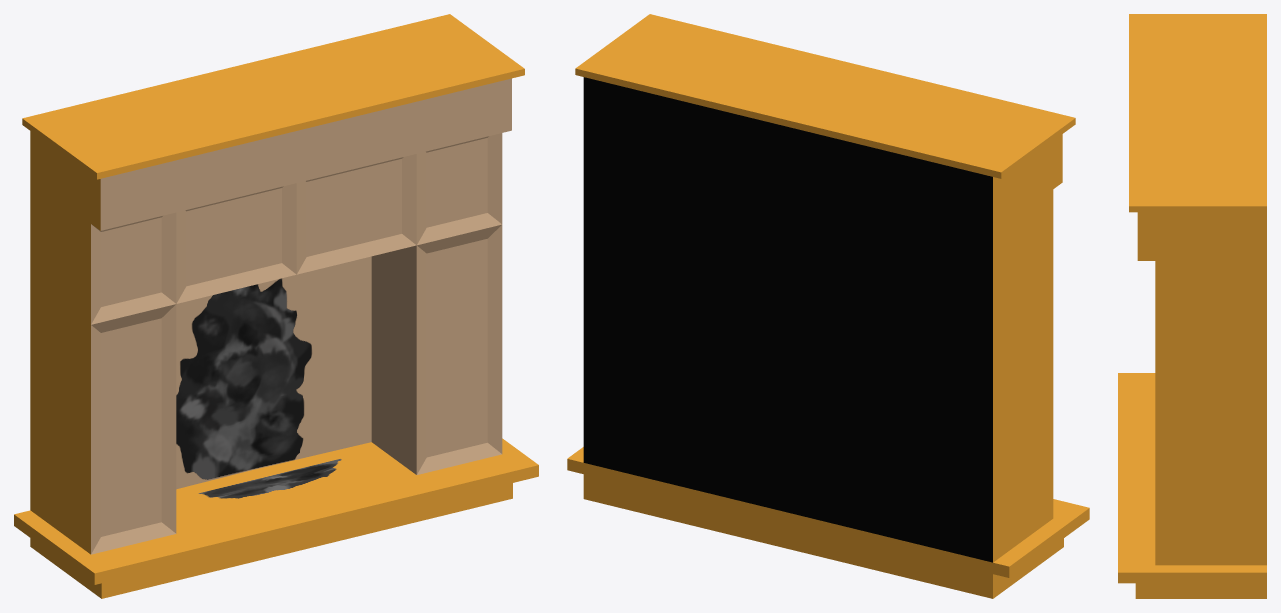
Rendered from chimenea.FBX.
3 renders of one model, left to right at view 1: azimuth 30°, elevation 25°; view 2: azimuth 150°, elevation 25°; view 3: azimuth 270°, elevation 25°, orthographic. The views are drawn at different scales.
Parts seen in each view (by area): view 1: Chimenea; view 2: Chimenea; view 3: Chimenea.
Boxes of the visible parts, bbox=[...] form: Chimenea: bbox=[14, 14, 538, 598]; Chimenea: bbox=[567, 14, 1089, 598]; Chimenea: bbox=[1118, 14, 1266, 598].
Bounding box in the file's own units: 108 × 100 × 34.
